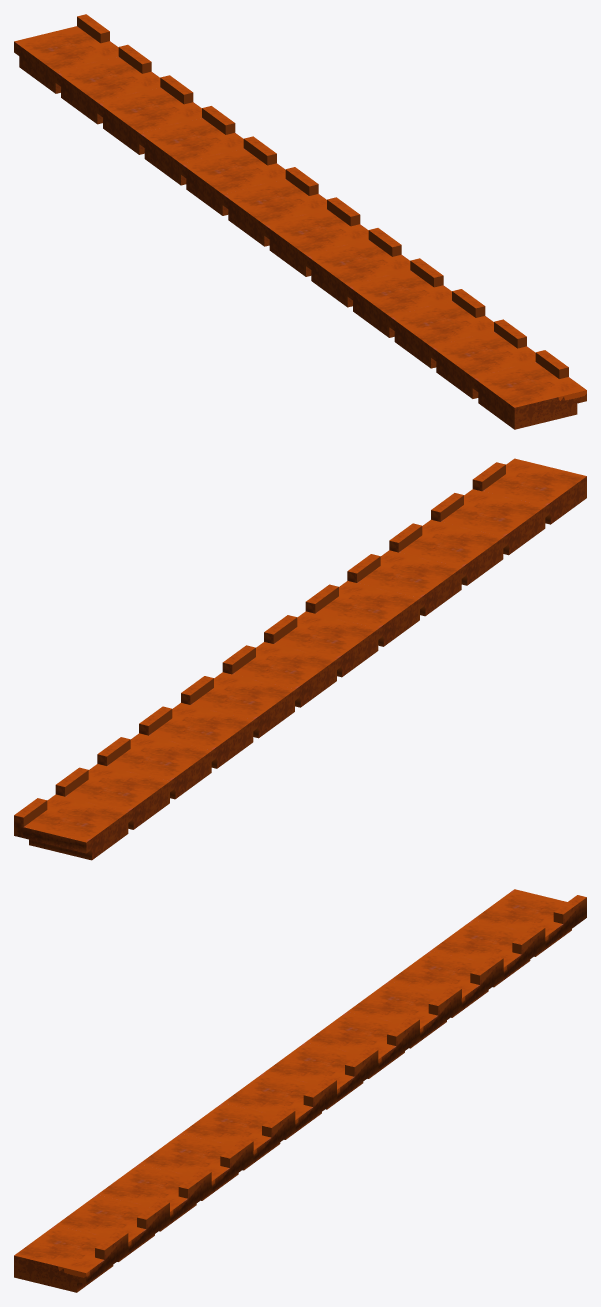
Rendered from Tile2X12.FBX.
3 views of the same model, one above another, from view 1: azimuth 30°, elevation 25°; view 2: azimuth 150°, elevation 25°; view 3: azimuth 330°, elevation 25° (orthographic).
Visible parts, largest first — view 1: Tile 002; view 2: Tile 002; view 3: Tile 002.
Part boxes in pixels (<box>): Tile 002: <box>14,14,586,429</box>; Tile 002: <box>14,458,586,860</box>; Tile 002: <box>14,889,586,1292</box>.
Bounding box in the file's own units: 6.91 × 2.87 × 82.71.
